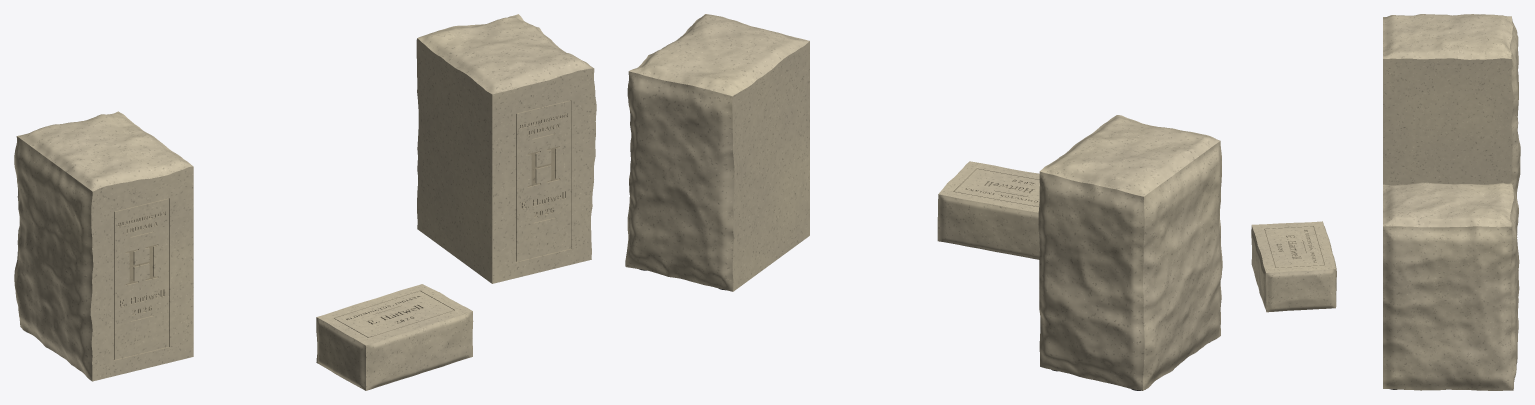
File: limestone_engraved_block_and_bookends.glb
3 renders of one model, left to right at view 1: azimuth 30°, elevation 25°; view 2: azimuth 150°, elevation 25°; view 3: azimuth 270°, elevation 25°, orthographic. The views are drawn at different scales.
Visible parts, largest first — view 1: Bookend_Left, Bookend_Right, Engraved_Block; view 2: Bookend_Left, Bookend_Right, Engraved_Block; view 3: Bookend_Right, Bookend_Left, Engraved_Block.
Part boxes in pixels (left/top/right/bottom): Bookend_Left: left=14, top=111, right=193, bottom=381; Bookend_Right: left=416, top=14, right=596, bottom=283; Engraved_Block: left=316, top=284, right=473, bottom=390; Bookend_Left: left=1038, top=115, right=1222, bottom=390; Bookend_Right: left=625, top=14, right=809, bottom=291; Engraved_Block: left=937, top=161, right=1039, bottom=259; Bookend_Right: left=1383, top=182, right=1519, bottom=390; Bookend_Left: left=1383, top=14, right=1520, bottom=197; Engraved_Block: left=1251, top=221, right=1336, bottom=312.
Size of the model in its own units: 0.4511 by 0.1677 by 0.237.
6 materials, 4 textured.
